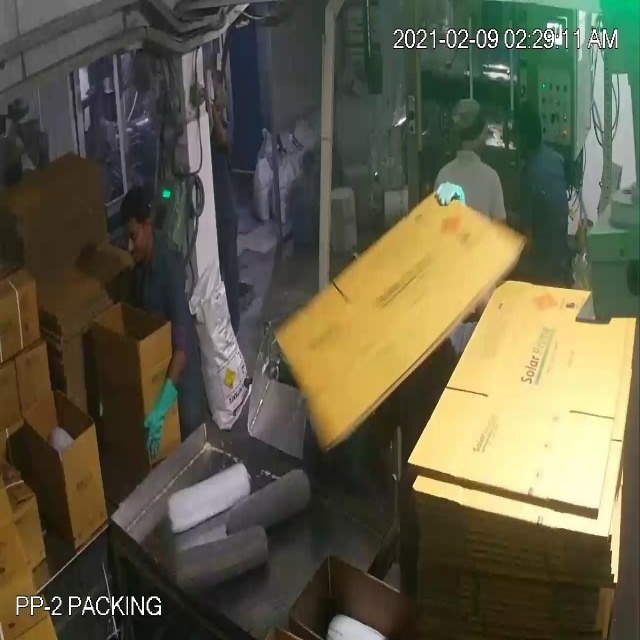Guantes: (132, 368, 189, 452)
Sin_guantes: (198, 93, 226, 164)
